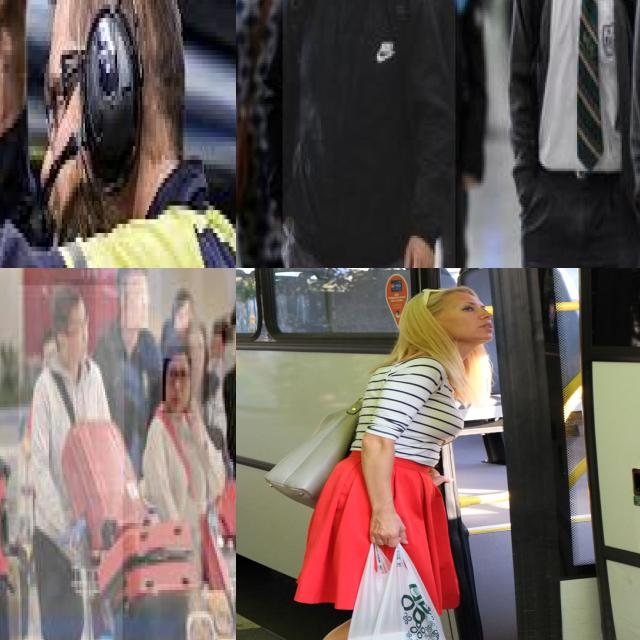Ear-protection: (76, 0, 146, 196)
face_nomask: (162, 358, 192, 414), (128, 276, 148, 328), (70, 306, 87, 358), (187, 331, 204, 371), (174, 300, 190, 331), (211, 331, 225, 361), (231, 324, 236, 355)
hand_noglove: (399, 231, 439, 268)
head_nohelmet: (56, 279, 84, 325), (117, 268, 148, 285)
person: (282, 0, 457, 268), (479, 0, 640, 268), (18, 285, 124, 640), (138, 346, 210, 587), (95, 268, 162, 495), (221, 312, 236, 541)
